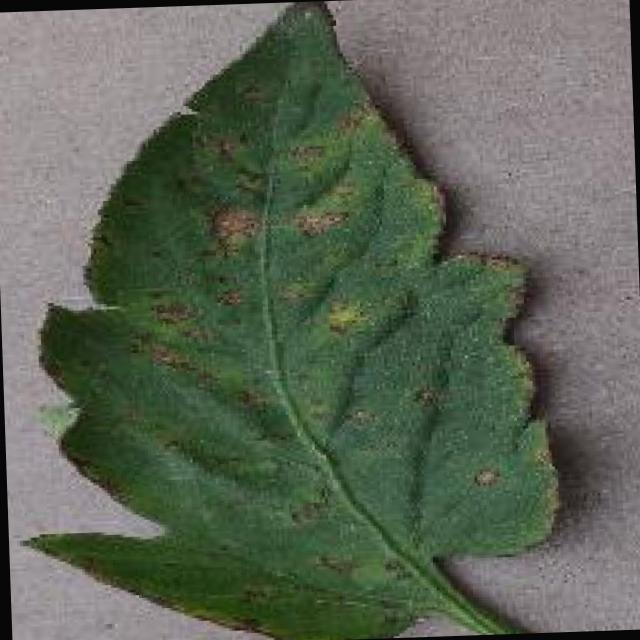bacterial spot: (8, 0, 567, 640)
